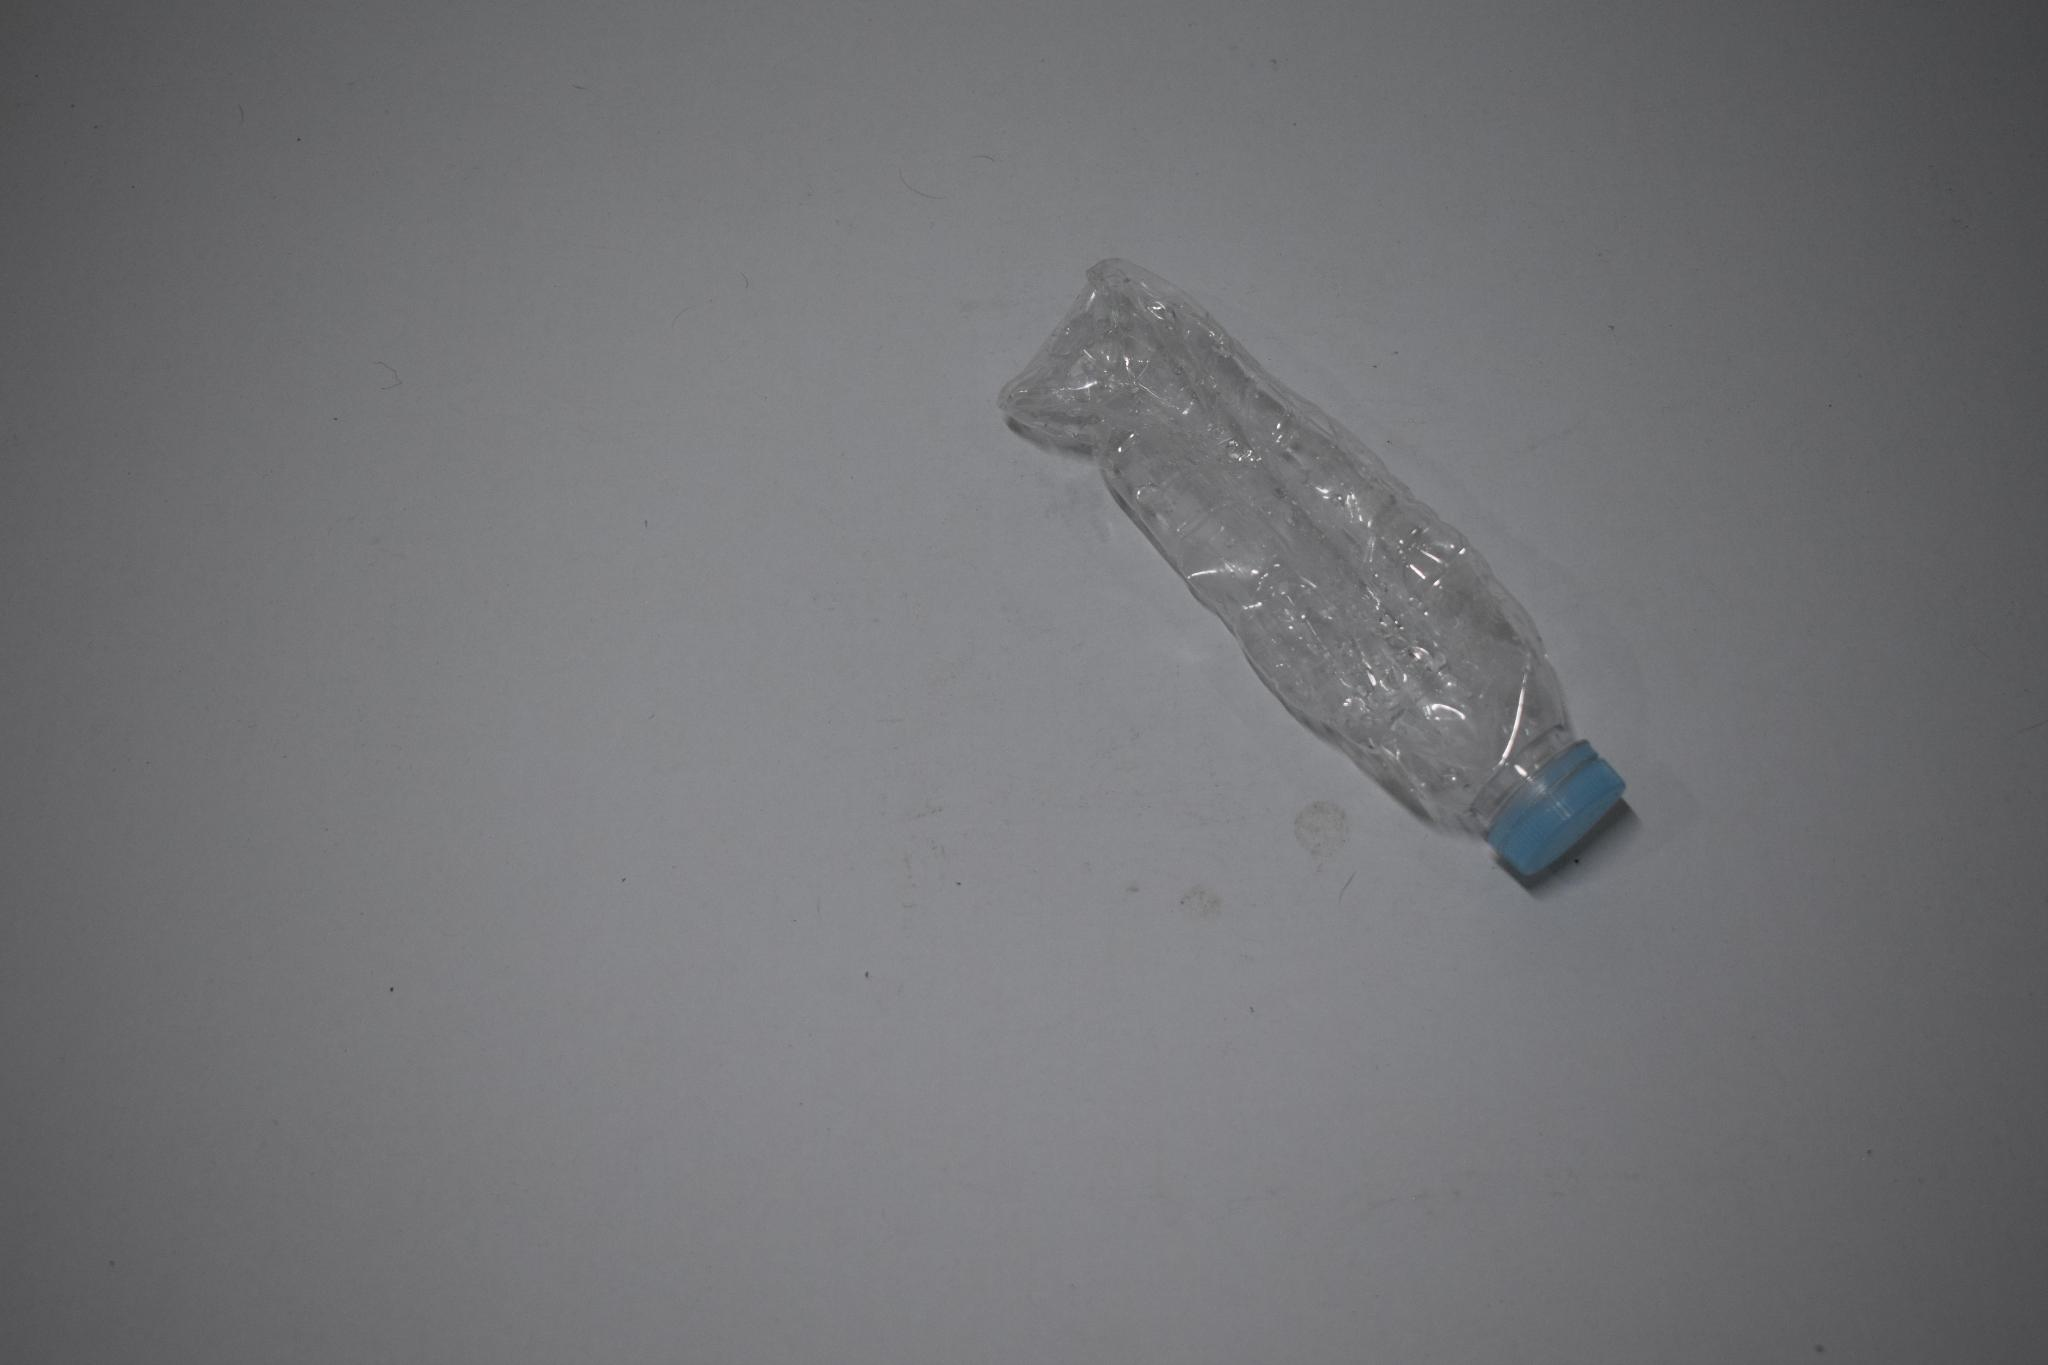bottle: (995, 246, 1629, 900)
